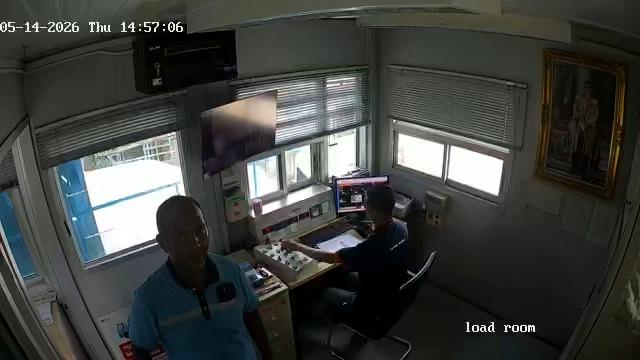Head: (153, 197, 217, 267), (360, 182, 396, 223)
People: (129, 193, 269, 360), (283, 182, 406, 294)
Phone: (216, 281, 237, 302)
